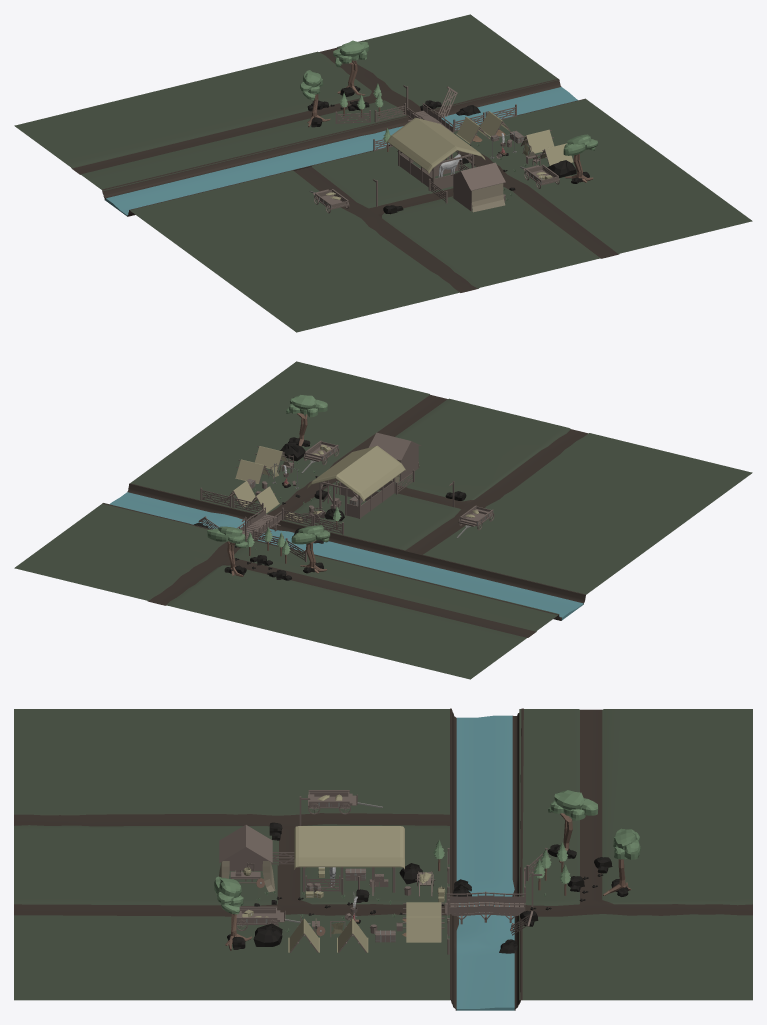
The model's file is medieval_camp.glb.
3 views of the same model, one above another, from view 1: azimuth 30°, elevation 25°; view 2: azimuth 150°, elevation 25°; view 3: azimuth 270°, elevation 25° (orthographic). The views are drawn at different scales.
Visible parts, largest first — view 1: Floor_4, Floor_3, Floor_1, River_1, Horse_barn_1, Lords_tent, Tree_big_3, Tree_big_1, Tree_big_2; view 2: Floor_4, Floor_3, Floor_1, River_1, Horse_barn_1, Lords_tent, Tree_big_1, Tree_big_3, Tree_big_2, Bridge_1, Carriage_1, Tent_3; view 3: Floor_3, Floor_4, Floor_1, River_1, Horse_barn_1, Lords_tent, Bridge_1, Tree_big_2, Tree_big_1, Tree_big_3, Tent_2, Carriage_1 (+5 smaller).
Boxes of the visible parts, left/top/right/bottom form: Floor_4: left=130, top=151, right=539, bottom=332; Floor_3: left=14, top=14, right=559, bottom=190; Floor_1: left=375, top=99, right=752, bottom=272; River_1: left=102, top=79, right=585, bottom=216; Horse_barn_1: left=386, top=117, right=485, bottom=191; Lords_tent: left=451, top=162, right=505, bottom=212; Tree_big_3: left=333, top=40, right=368, bottom=96; Tree_big_1: left=563, top=134, right=597, bottom=183; Tree_big_2: left=300, top=70, right=330, bottom=127; Floor_4: left=344, top=413, right=752, bottom=594; Floor_3: left=14, top=503, right=559, bottom=679; Floor_1: left=130, top=361, right=509, bottom=535; River_1: left=102, top=483, right=585, bottom=620; Horse_barn_1: left=307, top=445, right=405, bottom=518; Lords_tent: left=368, top=432, right=421, bottom=482; Tree_big_1: left=286, top=395, right=327, bottom=446; Tree_big_3: left=207, top=526, right=248, bottom=576; Tree_big_2: left=291, top=525, right=330, bottom=573; Bridge_1: left=237, top=507, right=281, bottom=540; Carriage_1: left=456, top=505, right=494, bottom=538; Tent_3: left=235, top=459, right=269, bottom=483; Floor_3: left=519, top=709, right=752, bottom=1000; Floor_4: left=14, top=709, right=449, bottom=865; Floor_1: left=14, top=863, right=450, bottom=1000; River_1: left=450, top=708, right=523, bottom=1010; Horse_barn_1: left=294, top=826, right=404, bottom=895; Lords_tent: left=219, top=825, right=275, bottom=892; Bridge_1: left=445, top=891, right=525, bottom=924; Tree_big_2: left=548, top=790, right=598, bottom=863; Tree_big_1: left=214, top=876, right=252, bottom=950; Tree_big_3: left=603, top=828, right=640, bottom=896; Tent_2: left=403, top=916, right=444, bottom=942; Carriage_1: left=308, top=790, right=382, bottom=814.
Bounding box in the file's own units: 56.45 × 7.35 × 60.52.
